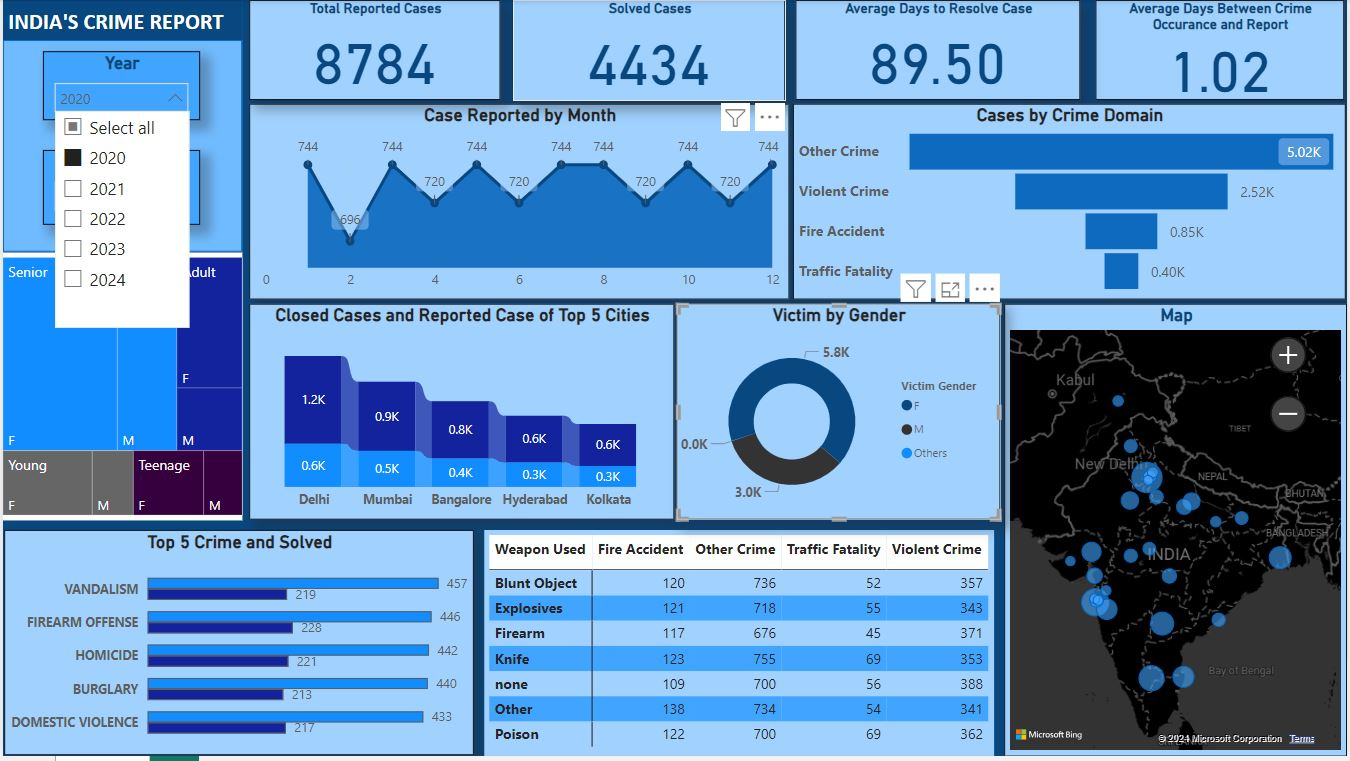

Layout of this report page (visuals, bound fields, positions):
{"tool":"powerbi","page":{"name":"Page 1","canvas":[1280,720],"ordinal":0},"visuals":[{"type":"lineChart","title":"Case Reported by Month","fields":{"Category":["india_crime.Month of occurance"],"Y":["CountNonNull(india_crime.Report Number)"]},"box":[234.6,98.8,514.6,186.6],"z":0},{"type":"card","title":"Total Reported Cases","fields":{"Values":["Count(india_crime.Report Number)"]},"box":[234.5,0,239.3,95.2],"z":1000},{"type":"card","title":"Solved Cases","fields":{"Values":["CountNonNull(india_crime.Case Closed)"]},"box":[485.7,0,259.5,96.4],"z":2000},{"type":"columnChart","title":"Closed Cases and Reported Case of Top 5 Cities","fields":{"Category":["india_crime.City"],"Y":["CountNonNull(india_crime.Date Case Closed)","Count(india_crime.Report Number)"]},"box":[234.6,289.5,404.8,205.8],"z":3000},{"type":"card","title":"Average Days Between Crime Occurance and Report","fields":{"Values":["Avg(india_crime.Days bw occ/report)"]},"box":[1040.5,0,236.9,95.2],"z":4000},{"type":"donutChart","title":"Victim by Gender","fields":{"Category":["india_crime.Victim Gender"],"Y":["CountNonNull(india_crime.Report Number)"]},"box":[642.2,289.5,308,205.8],"z":5000},{"type":"card","title":"Average Days to Resolve Case ","fields":{"Values":["Avg(india_crime.Resolved Duration)"]},"box":[754.8,0,271.4,95.2],"z":6000},{"type":"clusteredBarChart","title":"Top 5 Crime and Solved","fields":{"Category":["india_crime.Crime Description"],"Y":["Count(india_crime.Report Number)","CountNonNull(india_crime.Date Case Closed)"]},"box":[1.4,505,447.3,214.1],"z":7000},{"type":"funnel","title":"Cases by Crime Domain","fields":{"Category":["india_crime.Crime Domain"],"Y":["Count(india_crime.Report Number)"]},"box":[753.6,97.6,525,186.9],"z":8000},{"type":"treemap","fields":{"Group":["india_crime.Age Group"],"Values":["Count(india_crime.Report Number)"],"Details":["india_crime.Victim Gender"]},"box":[0,240.1,227.8,255.2],"z":9000},{"type":"textbox","title":"INDIA''S CRIME REPORT","box":[0,2.7,227.8,35.7],"z":10000},{"type":"map","title":"Map ","fields":{"Category":["india_crime.City"],"Size":["Count(india_crime.Report Number)"],"Y":["Avg(india_crime.Latitude)"],"X":["Avg(india_crime.Longitude)"]},"box":[953.7,289.5,326.6,430.9],"z":11000},{"type":"shape","box":[0,38.4,227.8,201.7],"z":12000},{"type":"slicer","title":"Year","fields":{"Values":["india_crime.Year of occurance"]},"box":[38.4,49.4,149.6,65.9],"z":13000},{"type":"slicer","title":"City","fields":{"Values":["india_crime.City"]},"box":[38.4,142.7,149.6,71.4],"z":14000},{"type":"pivotTable","fields":{"Rows":["india_crime.Weapon Used"],"Values":["Count(india_crime.Report Number)"],"Columns":["india_crime.Crime Domain"]},"box":[458.3,505,485.8,215.4],"z":15000}]}

Visuals, with their boxes in screenshot pixels (x1, y1, x2, y2), scaled from the page's 1280x720 canvas onto the 1350x761 screenshot:
"Case Reported by Month" lineChart: region(247, 104, 790, 302)
"Total Reported Cases" card: region(247, 0, 500, 101)
"Solved Cases" card: region(512, 0, 786, 102)
"Closed Cases and Reported Case of Top 5 Cities" columnChart: region(247, 306, 674, 524)
"Average Days Between Crime Occurance and Report" card: region(1097, 0, 1347, 101)
"Victim by Gender" donutChart: region(677, 306, 1002, 524)
"Average Days to Resolve Case " card: region(796, 0, 1082, 101)
"Top 5 Crime and Solved" clusteredBarChart: region(1, 534, 473, 760)
"Cases by Crime Domain" funnel: region(795, 103, 1349, 301)
treemap - india_crime.Age Group x Count(india_crime.Report Number): region(0, 254, 240, 524)
"INDIA''S CRIME REPORT" textbox: region(0, 3, 240, 41)
"Map " map: region(1006, 306, 1349, 760)
shape: region(0, 41, 240, 254)
"Year" slicer: region(40, 52, 198, 122)
"City" slicer: region(40, 151, 198, 226)
pivotTable - india_crime.Weapon Used x Count(india_crime.Report Number): region(483, 534, 996, 760)
